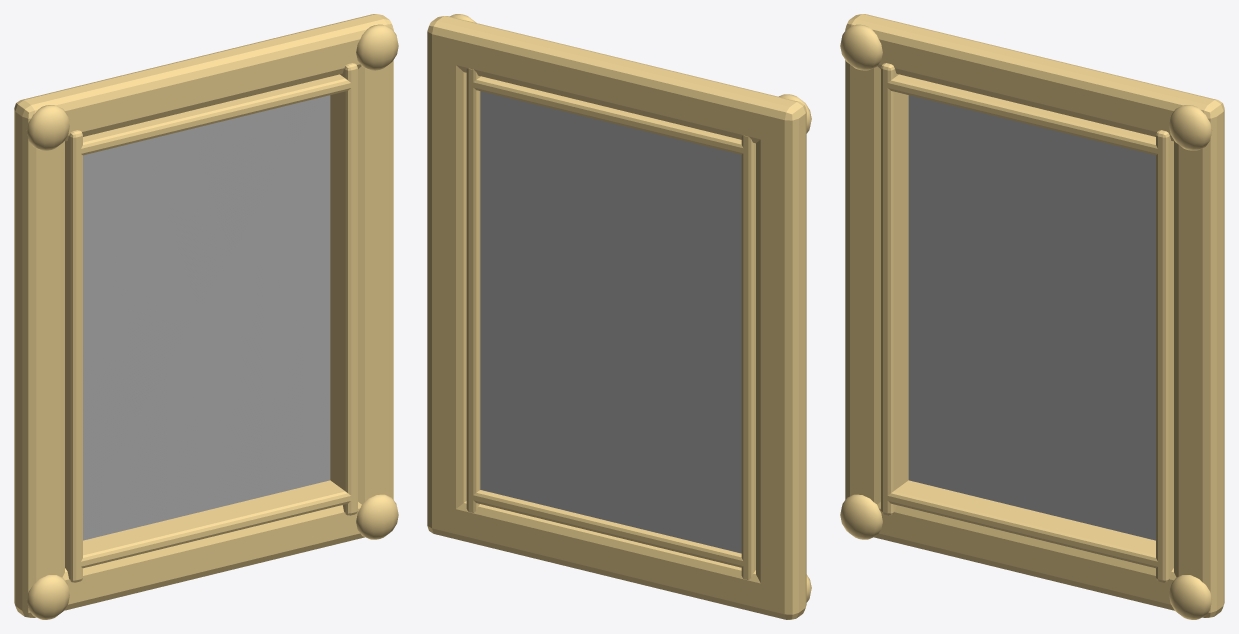
File: frame_tall.glb
3 views of the same model, side by side, from view 1: azimuth 30°, elevation 25°; view 2: azimuth 150°, elevation 25°; view 3: azimuth 330°, elevation 25° (orthographic).
Visible parts, largest first — view 1: frame_tall; view 2: frame_tall; view 3: frame_tall.
Part boxes in pixels (x1,y1,x2,y2): frame_tall: (14, 14, 398, 619); frame_tall: (427, 14, 811, 619); frame_tall: (840, 14, 1224, 619).
Bounding box in the file's own units: 1.24 × 1.64 × 0.142.
